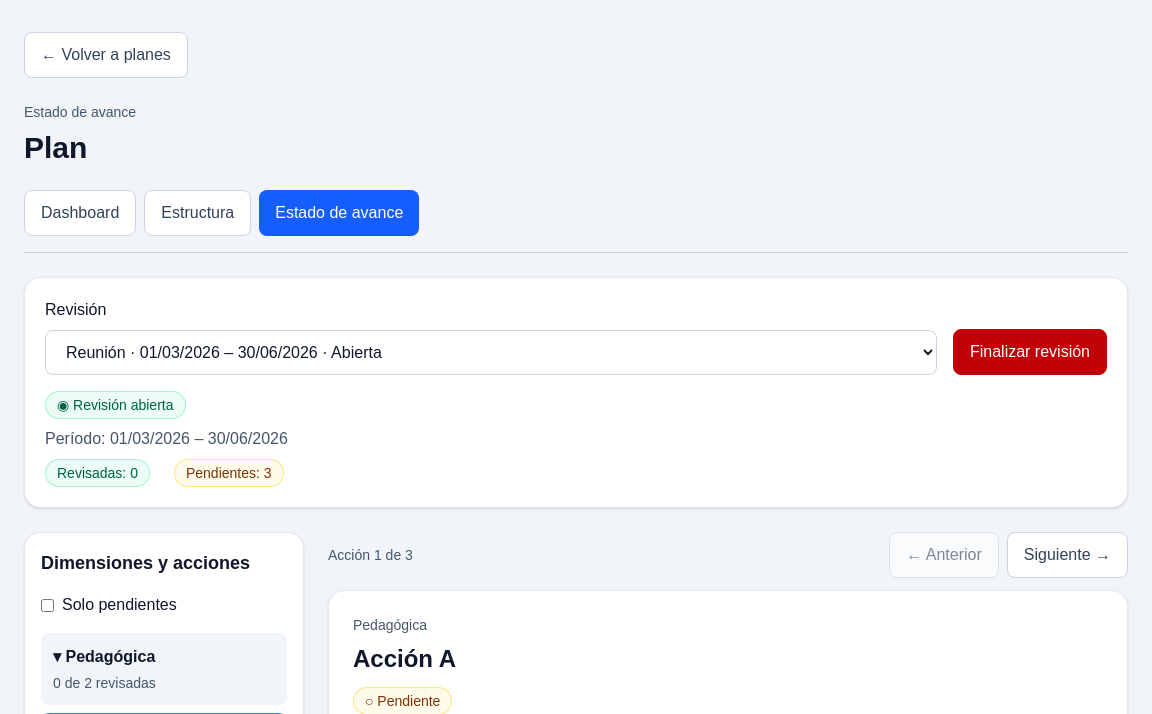
Test: conflicto de cierre recarga resumen y elimina confirmación previa
The image size is (1152, 714).
What coordinates should you click on to do the following:
click the button "Finalizar revisión"
I would click on:
 (1030, 352)
Its box is left=953, top=329, right=1107, bottom=375.
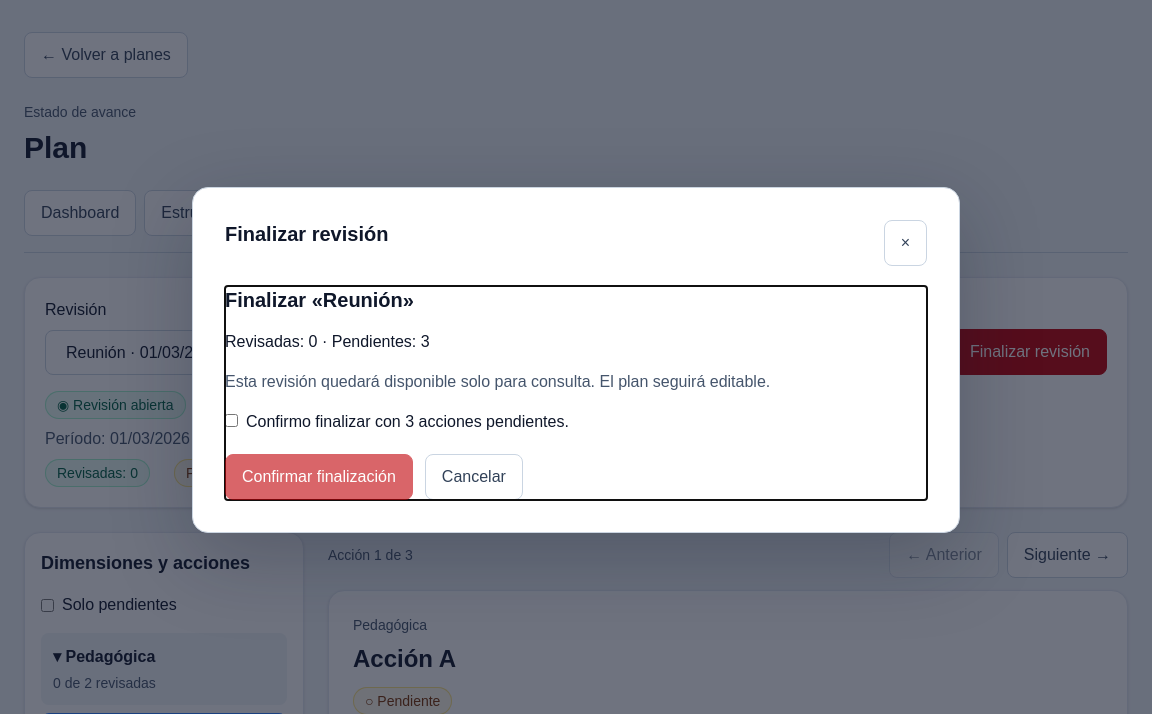
What coordinates should you click on to do the following:
click the checkbox labelled "Confirmo finalizar con 3 acciones pendientes."
I would click on:
 (232, 420)
Its box is left=225, top=414, right=238, bottom=427.
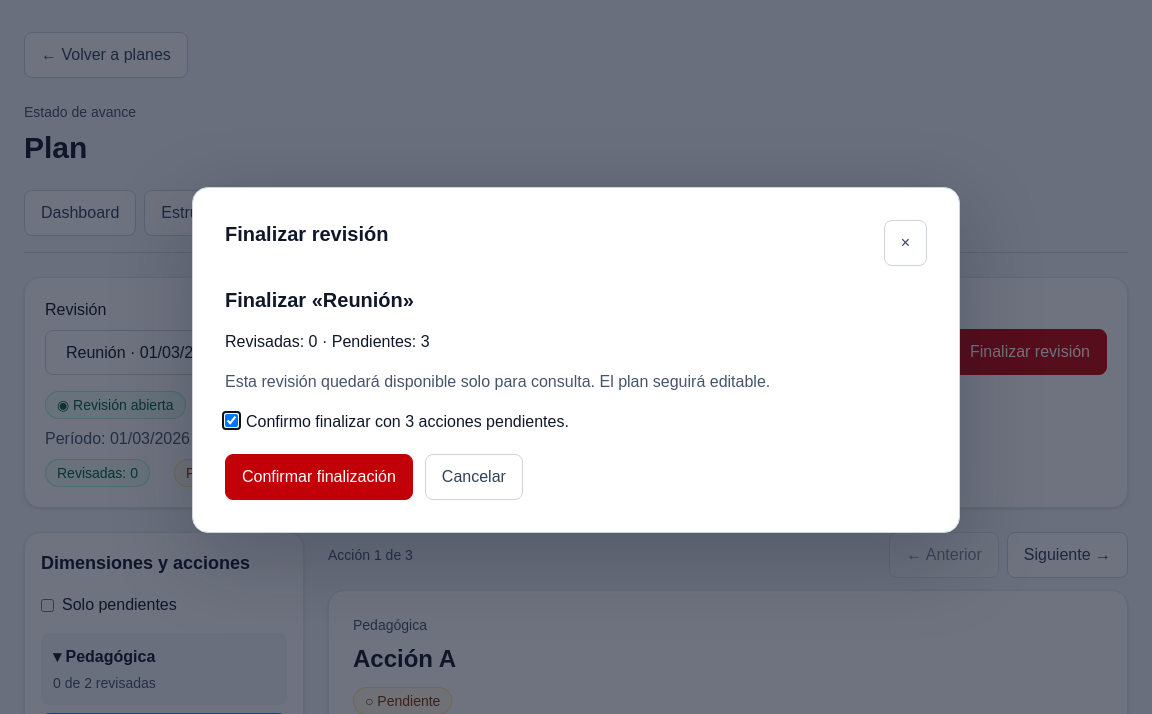
What coordinates should you click on to do the following:
click the button "Confirmar finalización"
I would click on:
 (319, 477)
Its box is left=225, top=454, right=413, bottom=500.
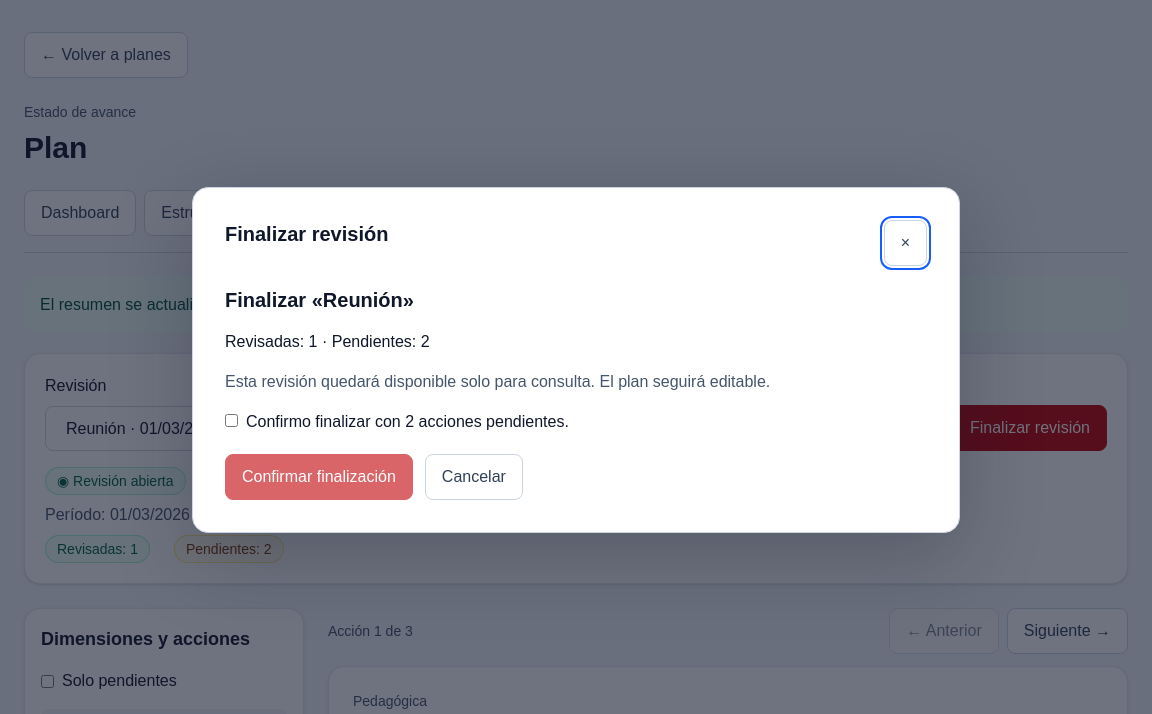
Now the checkbox labelled "Confirmo finalizar con 2 acciones pendientes." is not checked, box left=225, top=414, right=238, bottom=427
Now the button "Confirmar finalización" is disabled, box left=225, top=454, right=413, bottom=500
